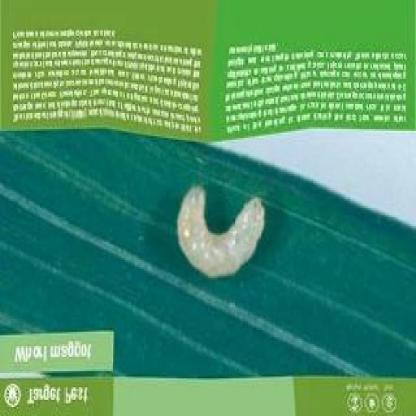whorl-maggot: (172, 178, 266, 282)
